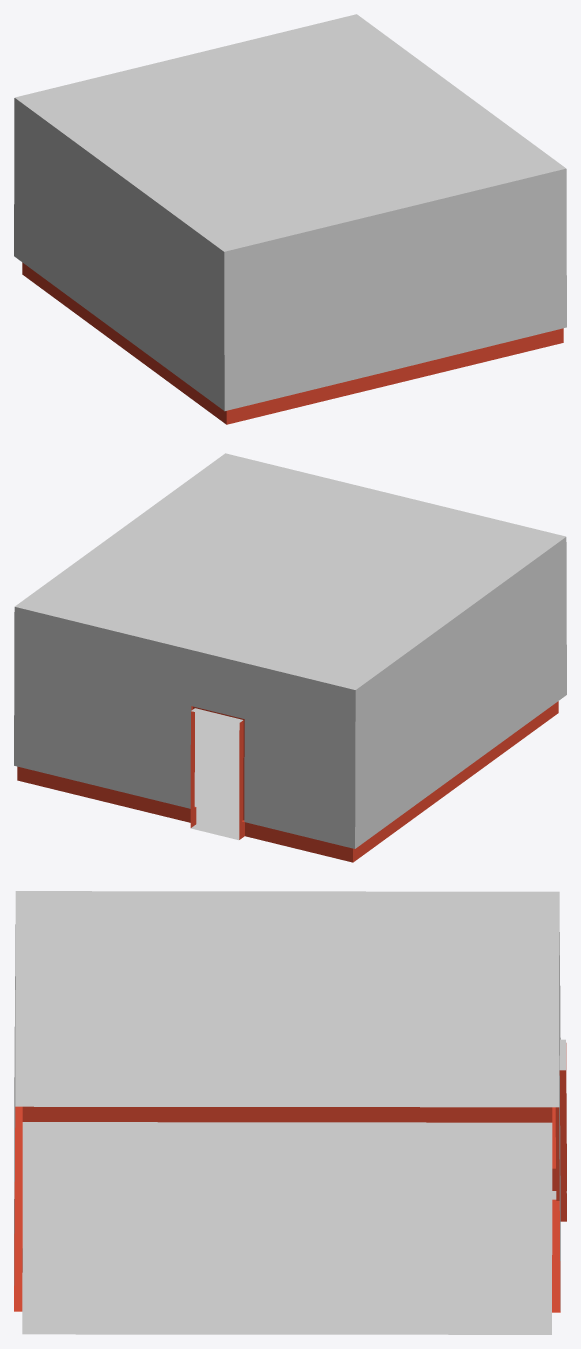
Rendered from SM_RH_Walls.fbx.
3 views of the same model, one above another, from view 1: azimuth 30°, elevation 25°; view 2: azimuth 150°, elevation 25°; view 3: azimuth 270°, elevation 25° (orthographic). The views are drawn at different scales.
Parts seen in each view (by area): view 1: Plane.002; view 2: Plane.002; view 3: Plane.002.
Boxes of the visible parts, <box> form: Plane.002: <box>14,14,566,424</box>; Plane.002: <box>14,453,566,862</box>; Plane.002: <box>14,891,566,1334</box>.
Size of the model in its own units: 609 by 299 by 658.
